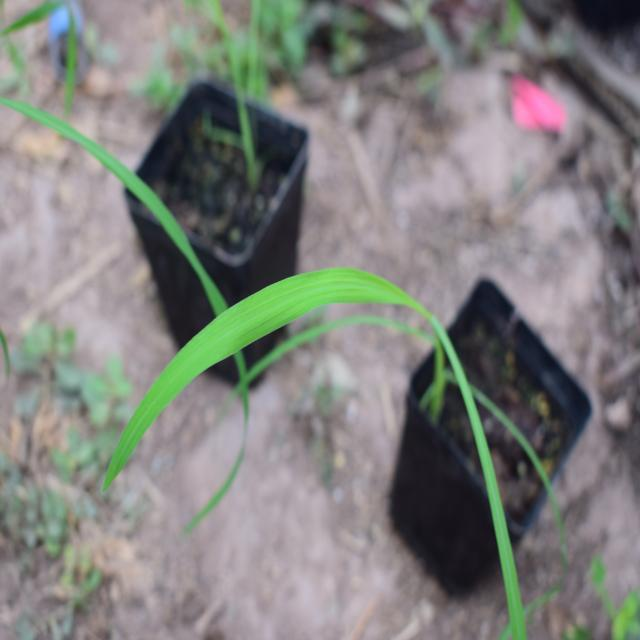barnyard_grass: (106, 212, 538, 584)
